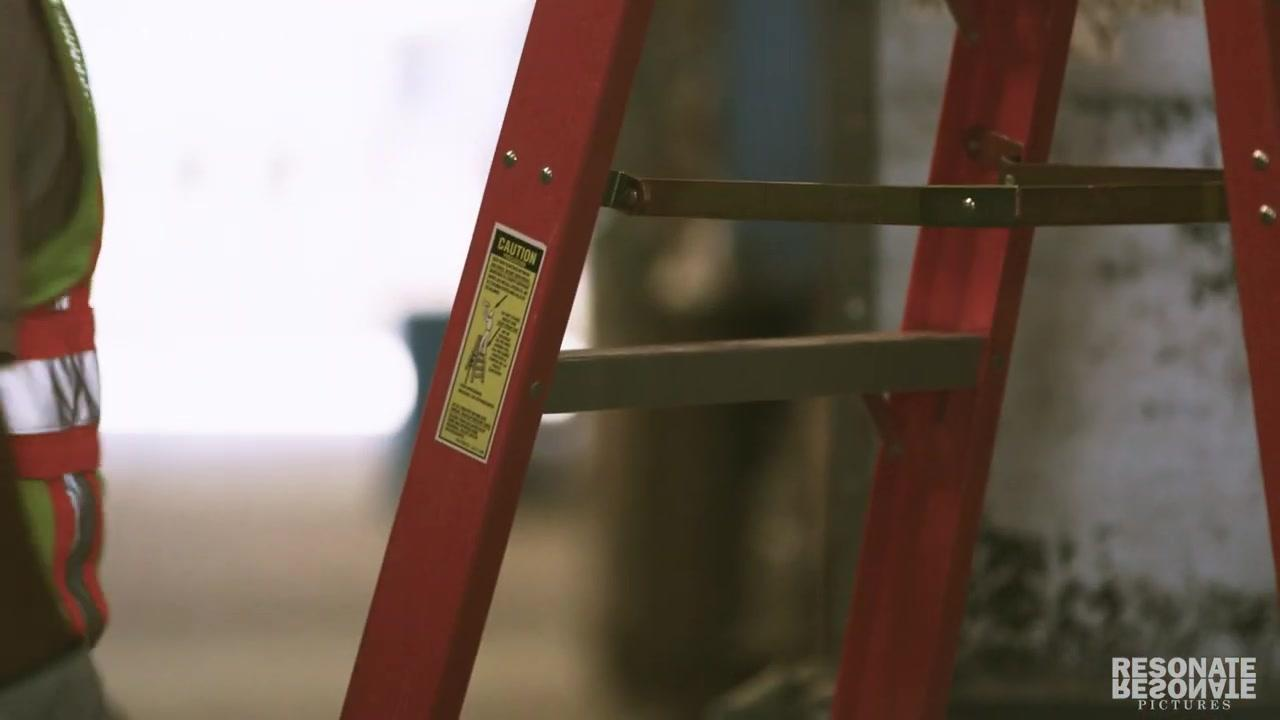vest: (3, 2, 105, 660)
